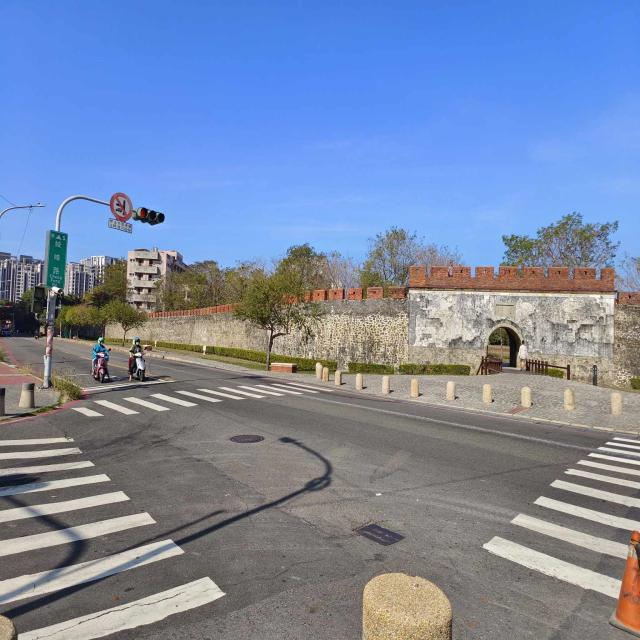person: (91, 337, 109, 377), (518, 340, 528, 370)
zebra crossing: (0, 437, 222, 640), (487, 442, 640, 601), (77, 384, 319, 418)
